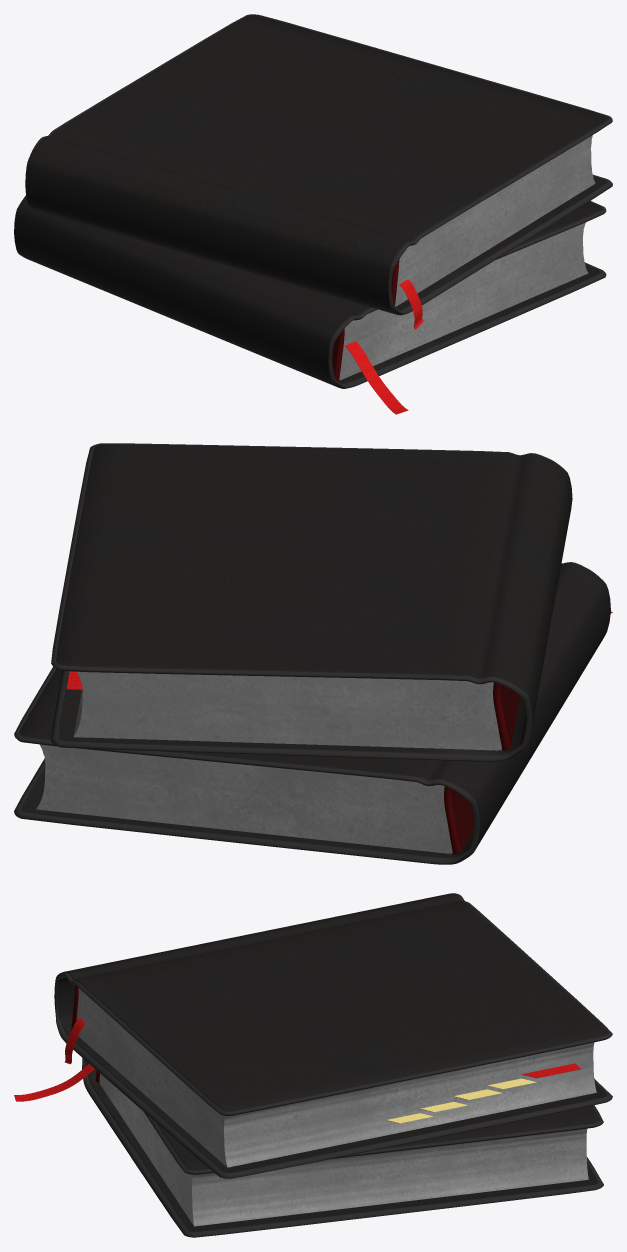
File: journal.fbx
3 renders of one model, top to bottom at view 1: azimuth 30°, elevation 25°; view 2: azimuth 150°, elevation 25°; view 3: azimuth 270°, elevation 25°, orthographic. The views are drawn at different scales.
Visible parts, largest first — view 1: decor_03.001; view 2: decor_03.001; view 3: decor_03.001.
Part boxes in pixels (box(x1,y1,x2,y2)): decor_03.001: box(14, 14, 612, 414); decor_03.001: box(14, 443, 612, 864); decor_03.001: box(14, 893, 612, 1237).
Size of the model in its own units: 22.42 by 24.88 by 6.47.
1 material, 1 textured.
